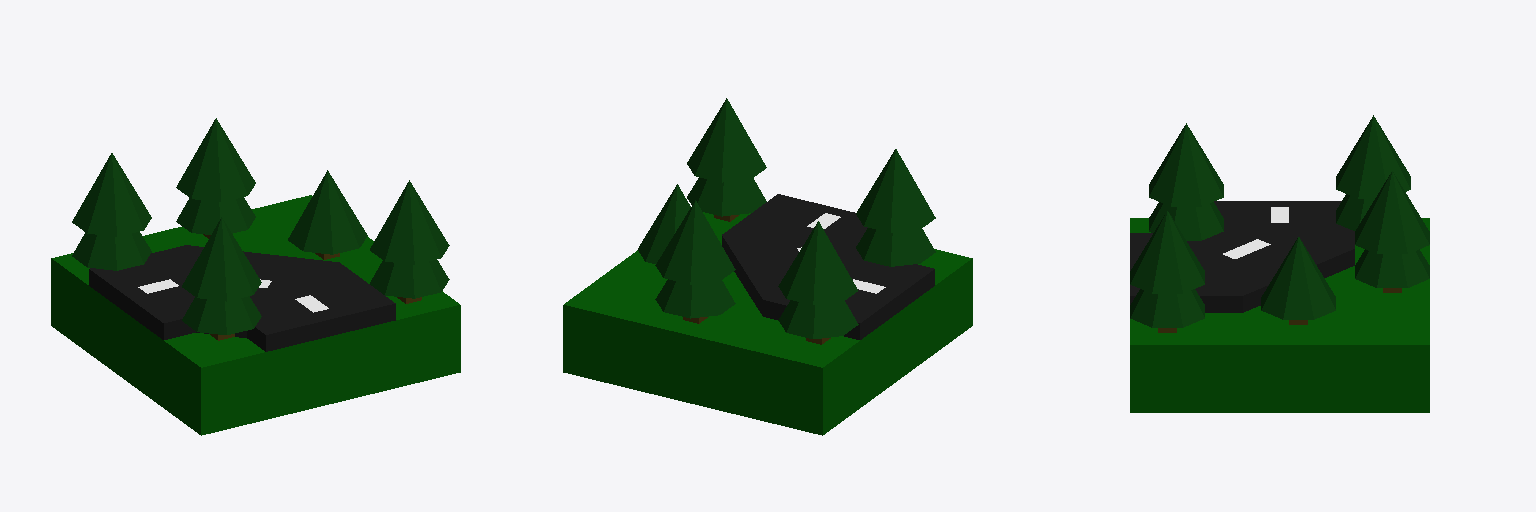
3 views of the same model, side by side, from view 1: azimuth 30°, elevation 25°; view 2: azimuth 150°, elevation 25°; view 3: azimuth 270°, elevation 25° (orthographic).
Parts seen in each view (by area): view 1: grass, cone, road, plane; view 2: grass, cone, road; view 3: grass, cone, road, plane.
Boxes of the visible parts, x1=… form: grass: x1=51, y1=195, x2=460, y2=435; cone: x1=72, y1=118, x2=449, y2=334; road: x1=89, y1=245, x2=395, y2=351; plane: x1=138, y1=279, x2=328, y2=312; grass: x1=563, y1=212, x2=972, y2=435; cone: x1=638, y1=98, x2=935, y2=338; road: x1=722, y1=194, x2=934, y2=339; grass: x1=1130, y1=218, x2=1429, y2=412; cone: x1=1130, y1=115, x2=1429, y2=327; road: x1=1130, y1=201, x2=1354, y2=312; plane: x1=1223, y1=207, x2=1288, y2=258.
Bounding box in the file's own units: 0.25 × 0.1719 × 0.25.
1 materials, 1 textured.